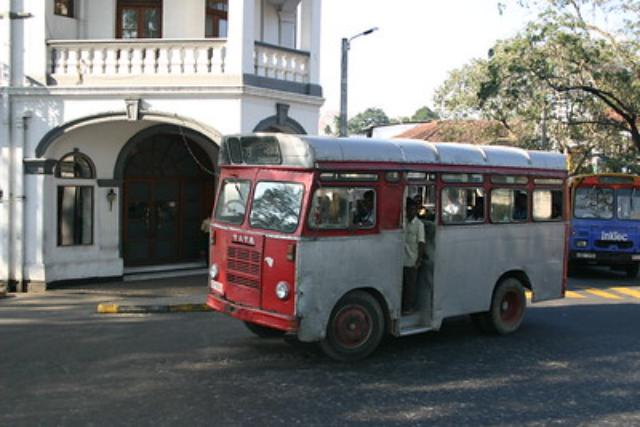bus: (206, 134, 568, 363), (565, 171, 640, 275)
